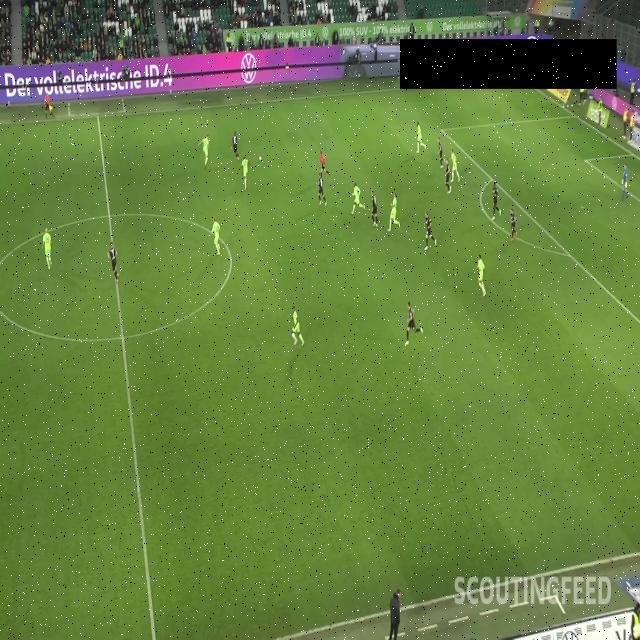Ball: (260, 156, 262, 161)
GoalKeeper: (619, 162, 629, 200)
Referee: (319, 149, 331, 179), (44, 92, 55, 120)
TEAM 1: (291, 306, 305, 346), (197, 133, 211, 171), (351, 182, 366, 215), (476, 253, 487, 297), (388, 193, 400, 232), (42, 228, 52, 270), (211, 217, 221, 256), (450, 147, 460, 184), (416, 122, 427, 154), (241, 155, 251, 190)
TEAM 2: (405, 300, 424, 346), (424, 208, 437, 252), (107, 242, 120, 282), (491, 181, 502, 220), (370, 190, 380, 230), (318, 172, 328, 207), (509, 207, 518, 243), (230, 131, 240, 162), (444, 160, 452, 194), (437, 137, 444, 168)
